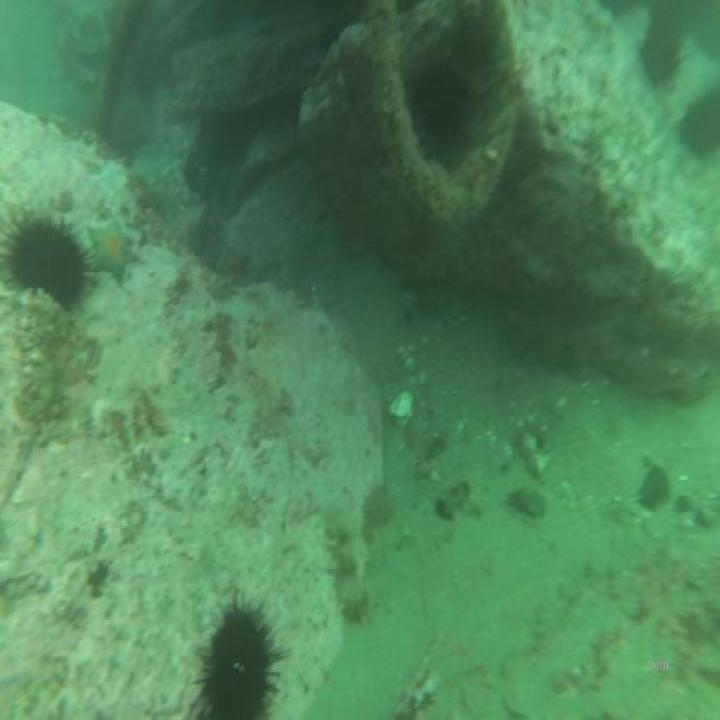echinus: (193, 586, 291, 720), (0, 195, 103, 313), (635, 9, 692, 87), (675, 77, 719, 166)
holothurian: (325, 503, 366, 622)
starfish: (85, 214, 139, 286)
